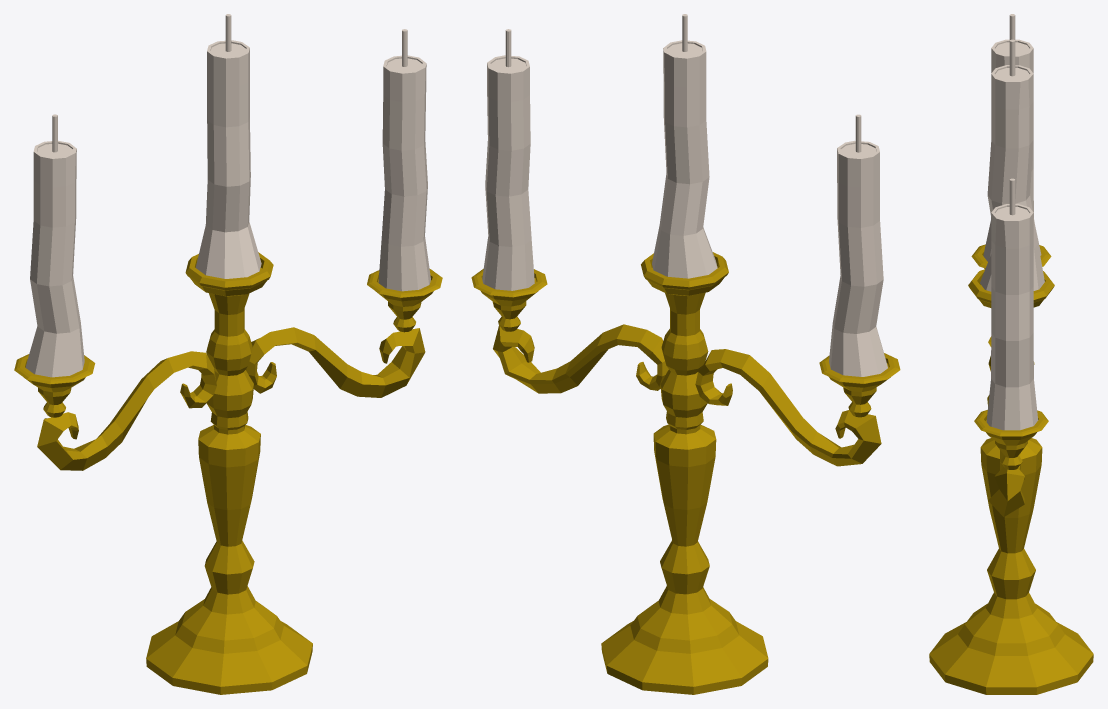
Rendered from mod_candlestick.fbx.
3 views of the same model, side by side, from view 1: azimuth 30°, elevation 25°; view 2: azimuth 150°, elevation 25°; view 3: azimuth 270°, elevation 25° (orthographic). The views are drawn at different scales.
Parts seen in each view (by area): view 1: mod_candlestick, mod_candles; view 2: mod_candlestick, mod_candles; view 3: mod_candlestick, mod_candles.
Part boxes in pixels (box(x1,y1,x2,y2)): mod_candlestick: box(14, 252, 442, 694); mod_candles: box(25, 14, 430, 377); mod_candlestick: box(471, 252, 900, 694); mod_candles: box(482, 14, 887, 376); mod_candlestick: box(929, 244, 1093, 694); mod_candles: box(980, 14, 1044, 430).
Size of the model in its own units: 49.03 by 72.49 by 17.41.
